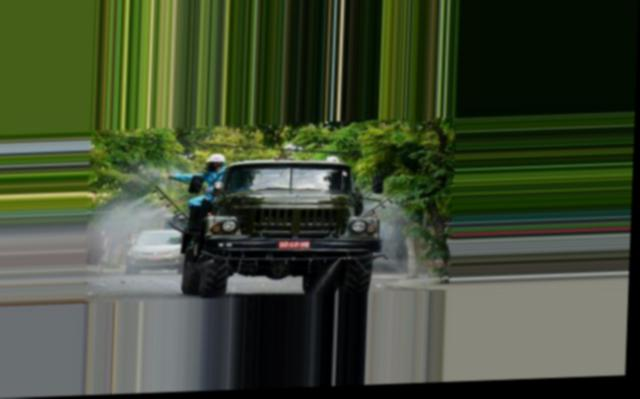License_Plate: (277, 239, 311, 250)
